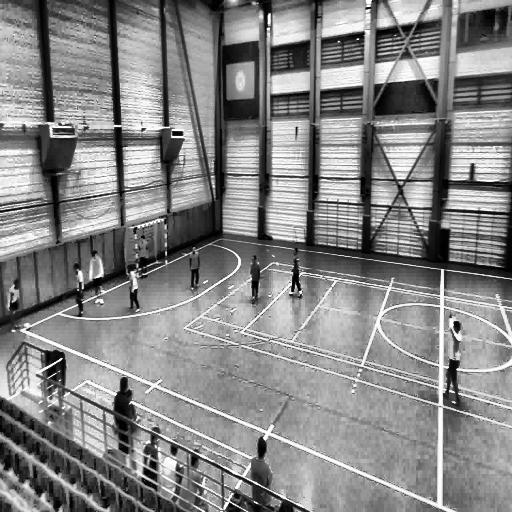ball: (25, 320, 30, 333)
player: (112, 377, 137, 467), (441, 314, 463, 404), (250, 437, 271, 505), (6, 276, 23, 336), (89, 250, 104, 304), (128, 264, 141, 312), (137, 234, 150, 282), (290, 246, 302, 296), (75, 263, 86, 316), (189, 245, 201, 291), (250, 255, 260, 302)
